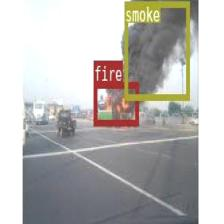fire: (93, 81, 138, 125)
smoke: (124, 0, 189, 100)
